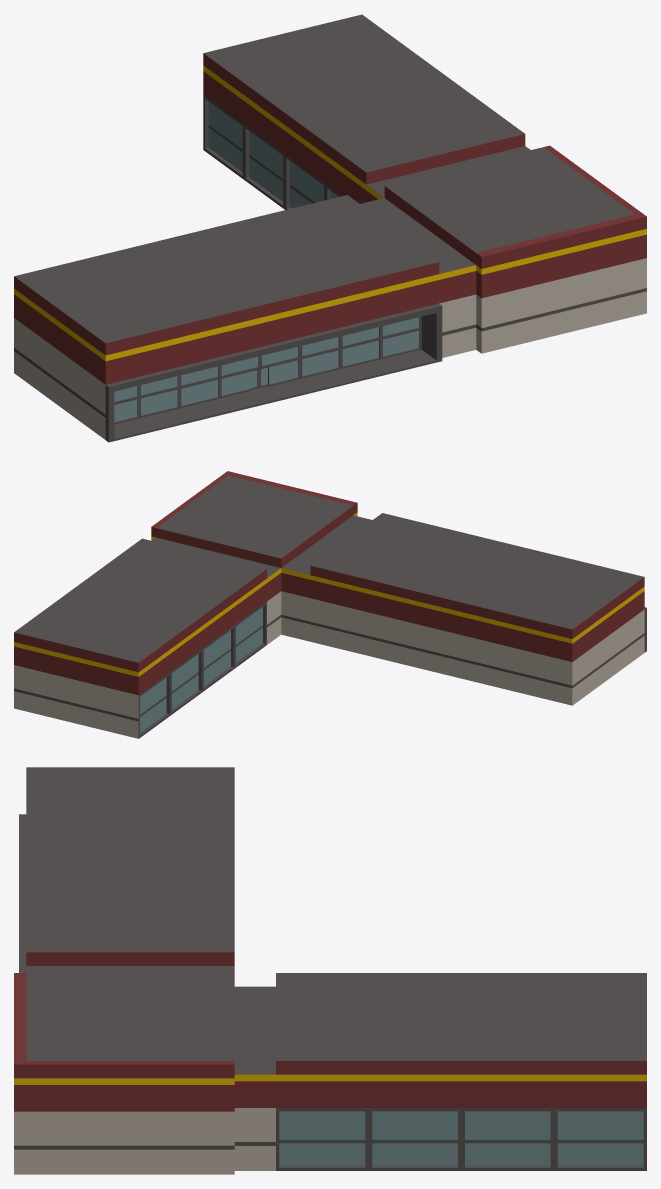
Rendered from Depot_Resturant_S2.fbx.
3 views of the same model, one above another, from view 1: azimuth 30°, elevation 25°; view 2: azimuth 150°, elevation 25°; view 3: azimuth 270°, elevation 25° (orthographic). The views are drawn at different scales.
Visible parts, largest first — view 1: Depot_Resturant; view 2: Depot_Resturant; view 3: Depot_Resturant.
Part boxes in pixels (x1,y1,x2,y2): Depot_Resturant: (14, 14, 646, 442); Depot_Resturant: (14, 471, 646, 738); Depot_Resturant: (14, 767, 646, 1174).
Size of the model in its own units: 8099 by 1398 by 7285.
